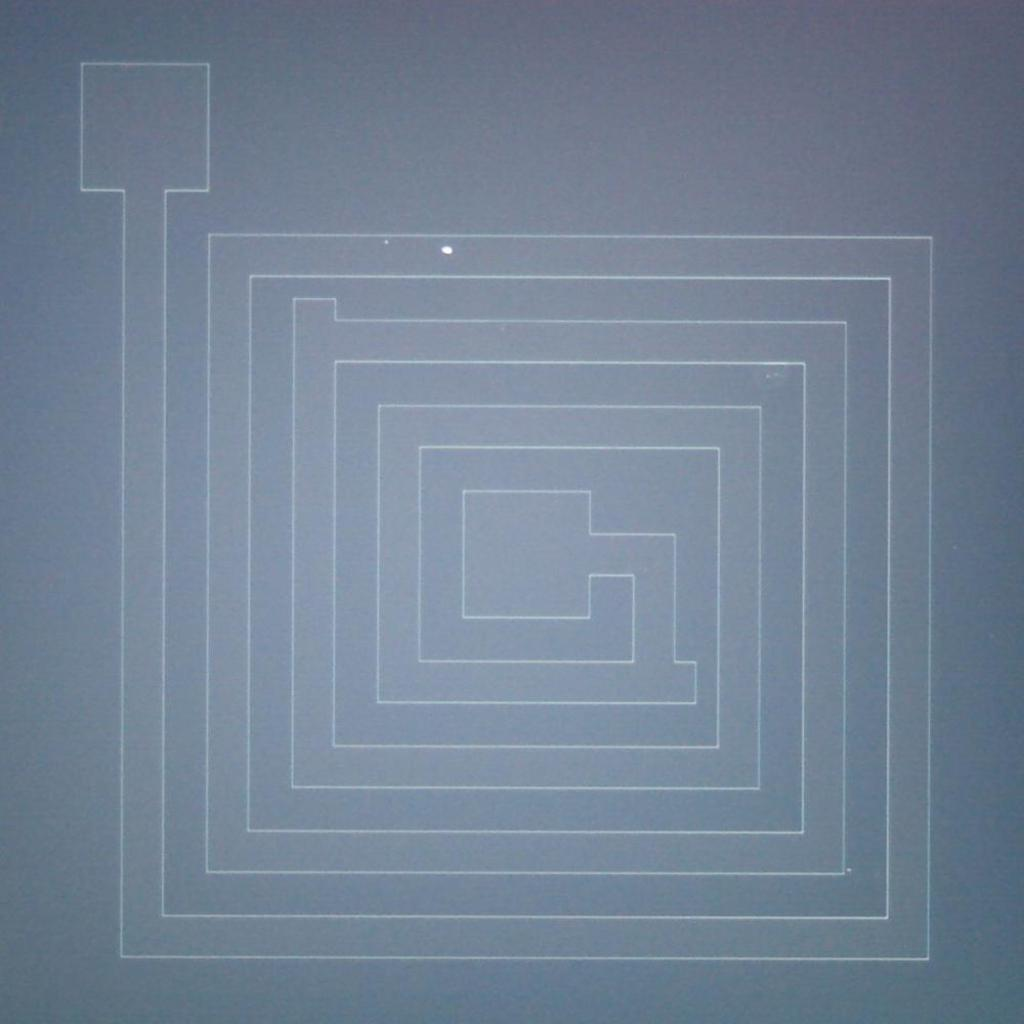dot: (442, 245, 452, 255), (384, 240, 390, 244), (847, 868, 851, 872)
